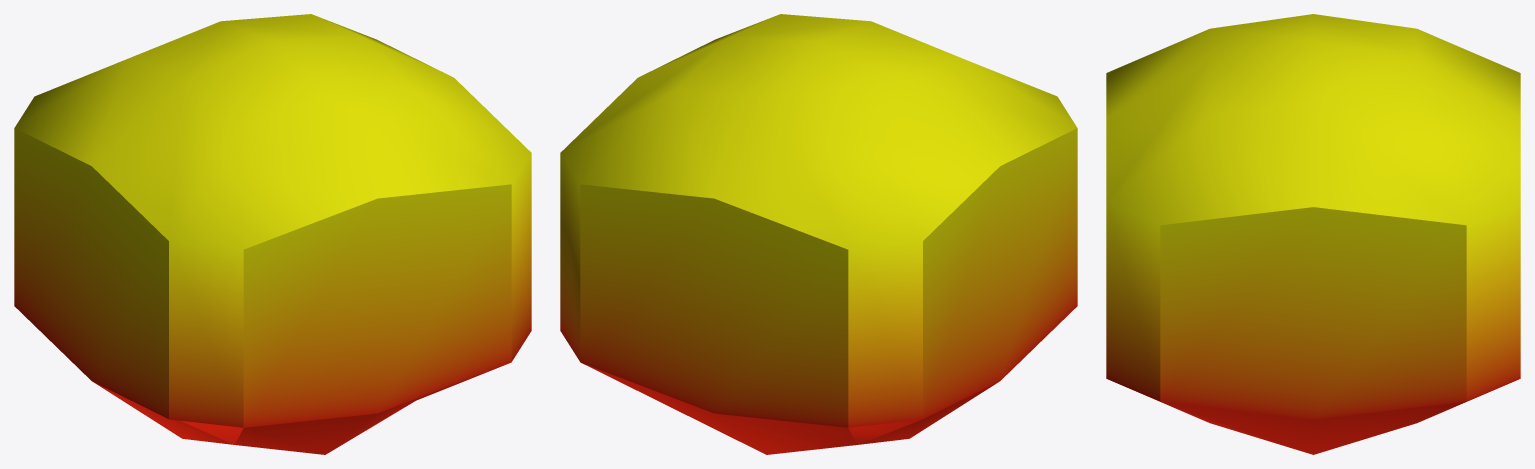
Rendered from ExplosionBeamCenter.fbx.
3 renders of one model, left to right at view 1: azimuth 30°, elevation 25°; view 2: azimuth 150°, elevation 25°; view 3: azimuth 270°, elevation 25°, orthographic.
Parts seen in each view (by area): view 1: pCube13; view 2: pCube13; view 3: pCube13.
Part boxes in pixels (<box>): pCube13: <box>14,14,531,454</box>; pCube13: <box>560,14,1077,454</box>; pCube13: <box>1106,14,1520,454</box>.
Size of the model in its own units: 1 by 0.987 by 1.
